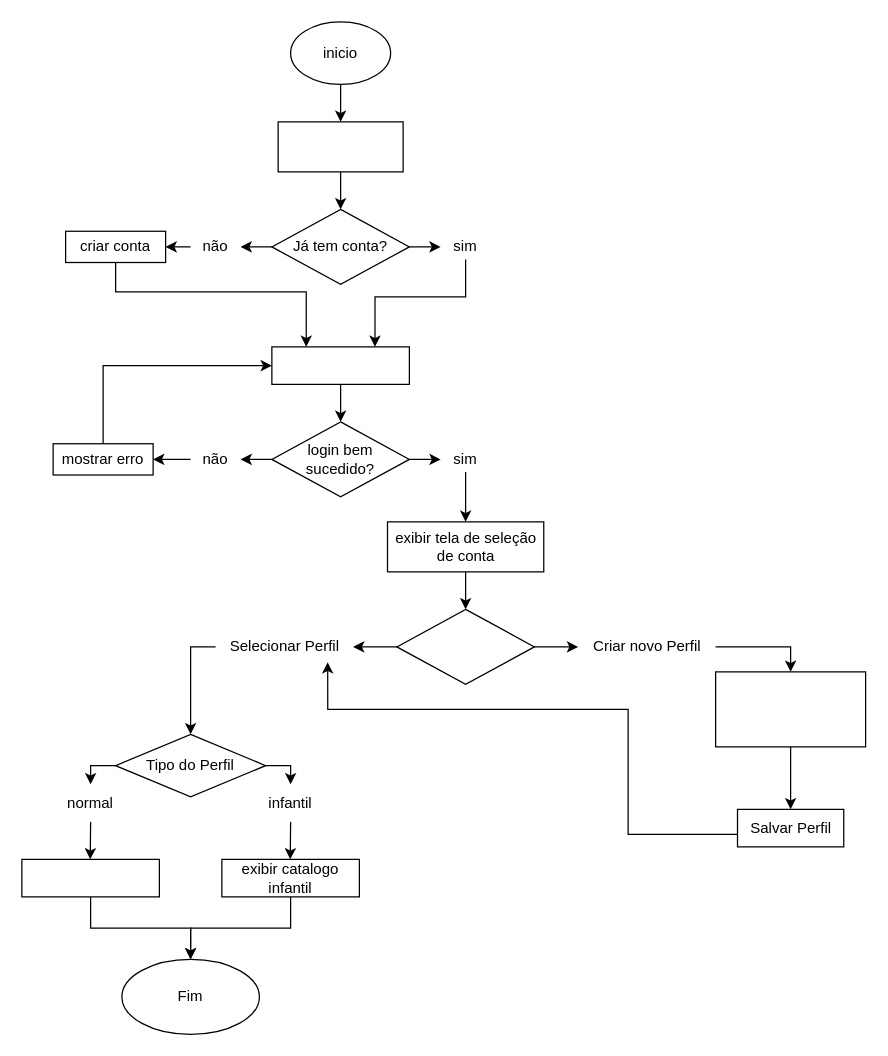
The diagram is 888 pixels wide and 1056 high, and some of its shapes have lost their labels. Each missing label, with the centre of its shape:
"Acessar o site/app" belongs at [340,146].
"exibir catalogo completo" belongs at [90,877].
"fazer login" belongs at [340,365].
"Personalizar perfil (nome, tipo: infantil ou normal)" belongs at [790,709].
"Usuário escolhe" belongs at [465,646].
